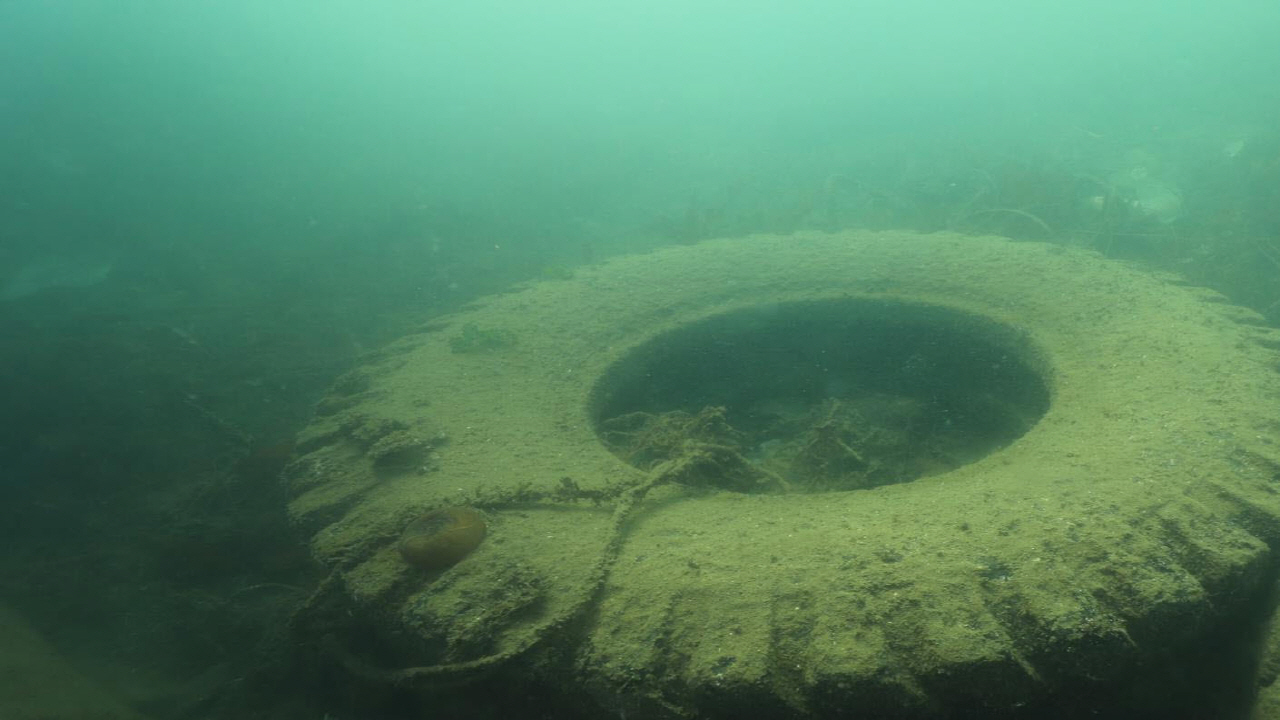bundle of ropes: (300, 454, 695, 687)
tire: (278, 225, 1280, 720)
